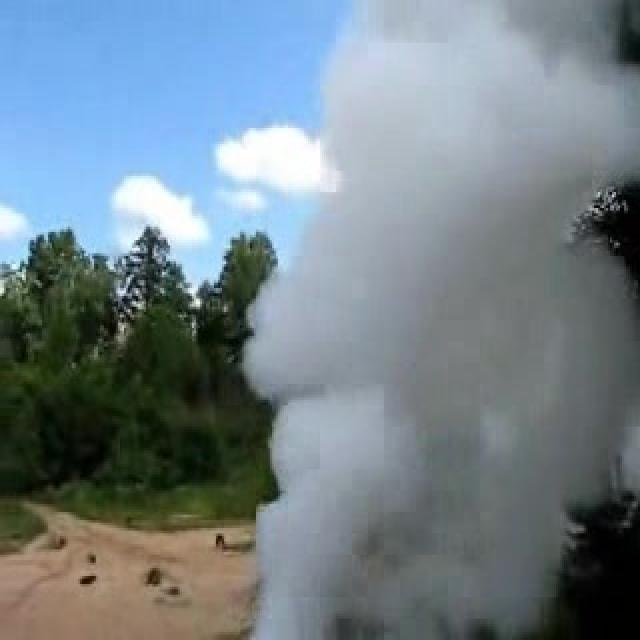Smoke: (237, 0, 640, 640)
